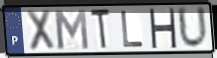H: (147, 7, 178, 50)
L: (119, 10, 146, 49)
M: (52, 8, 91, 51)
T: (89, 7, 112, 52)
U: (176, 5, 210, 51)
X: (25, 8, 57, 52)
